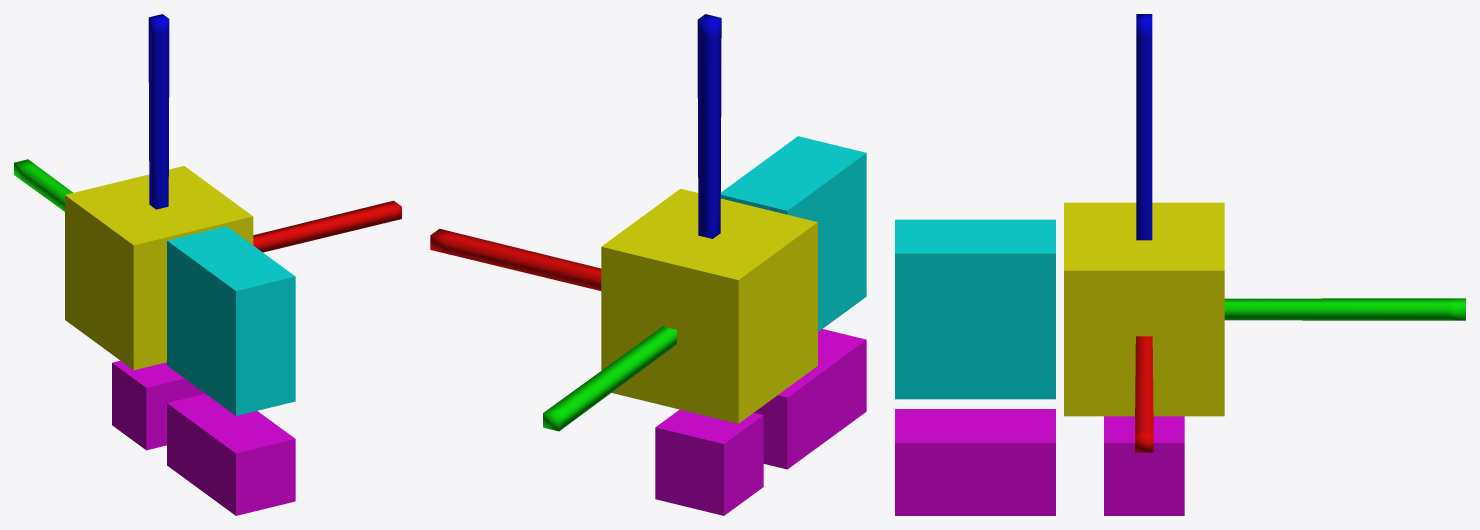
File: scale_test.gltf
3 views of the same model, side by side, from view 1: azimuth 30°, elevation 25°; view 2: azimuth 150°, elevation 25°; view 3: azimuth 270°, elevation 25° (orthographic). The views are drawn at different scales.
Visible parts, largest first — view 1: Cube.002, Cube.001, Cube, Plane, Cube.003; view 2: Cube.002, Cube.001, Plane, Cube.003, Cube; view 3: Cube.002, Cube.001, Cube, Plane, Cube.003.
Part boxes in pixels (box(x1,y1,x2,y2)): Cube.002: box(65, 166, 253, 370); Cube.001: box(167, 226, 295, 415); Cube: box(167, 393, 295, 515); Plane: box(14, 14, 401, 252); Cube.003: box(112, 360, 204, 450); Cube.002: box(601, 188, 817, 423); Cube.001: box(720, 136, 866, 331); Plane: box(430, 14, 721, 431); Cube.003: box(655, 409, 763, 515); Cube: box(754, 329, 866, 469); Cube.002: box(1064, 202, 1224, 416); Cube.001: box(895, 219, 1055, 399); Cube: box(895, 409, 1055, 515); Plane: box(1135, 14, 1465, 452); Cube.003: box(1104, 416, 1184, 515).
Size of the model in its own units: 5 by 6.6 by 7.1.
